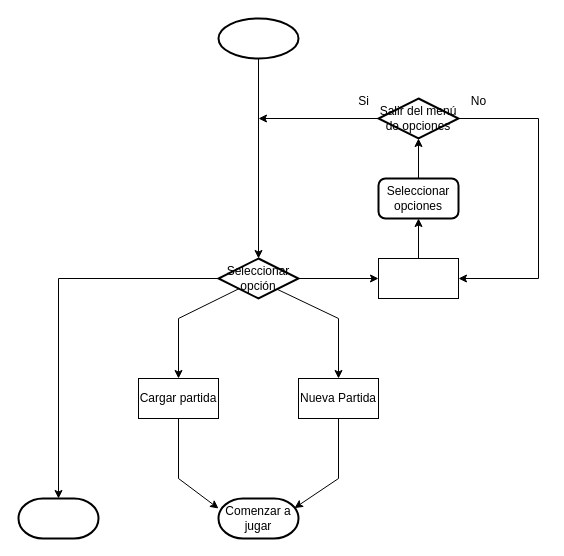
Some shapes in this 564 by 556 pixel diagram are drawn without their labels. Here are the shapes that lost their labels. From the top down, the centre of each, then its label:
At (258,38): "Pantalla de Inicio".
At (418,278): "Menú de Opciones".
At (58,518): "Salir del juego".
